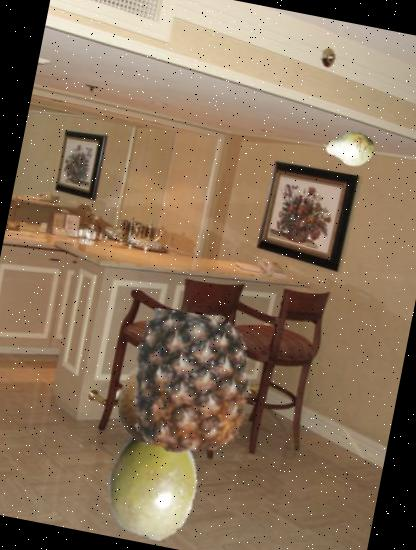Kiwi: (107, 349, 213, 455)
Maracuja: (88, 421, 216, 549)
Pear: (318, 117, 380, 179)
Pineapple: (108, 302, 273, 467)
